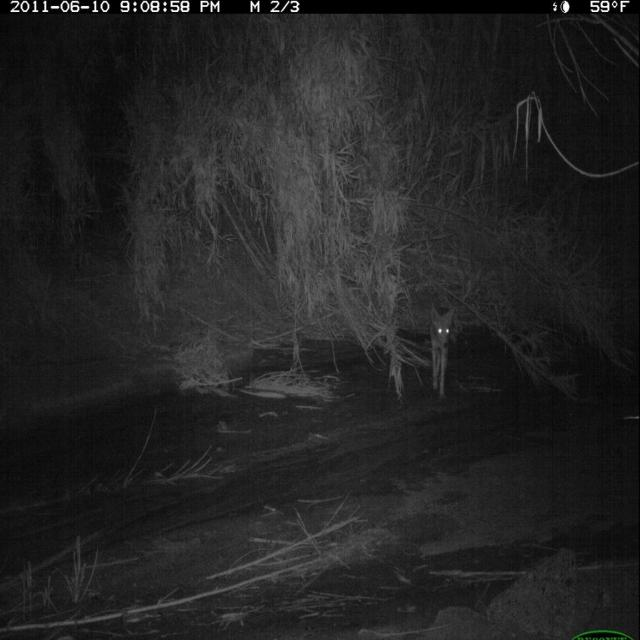coyote: (424, 299, 461, 403)
